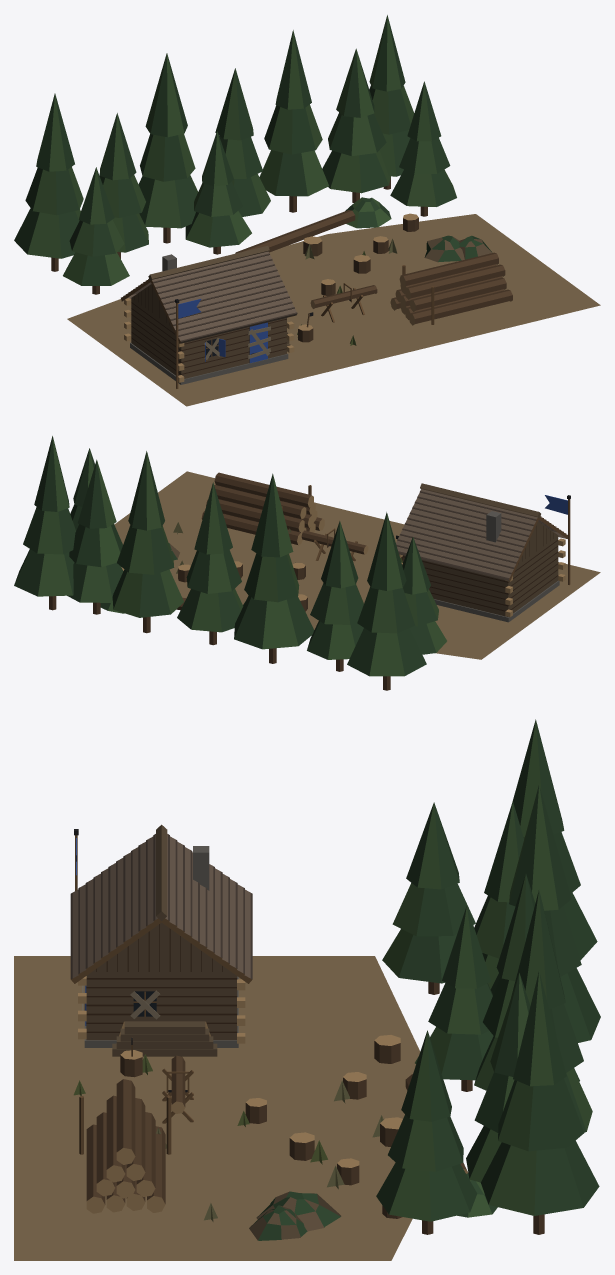
File: holzschlag.glb
3 renders of one model, top to bottom at view 1: azimuth 30°, elevation 25°; view 2: azimuth 150°, elevation 25°; view 3: azimuth 270°, elevation 25°, orthographic. The views are drawn at different scales.
Visible parts, largest first — view 1: Haus, Arbeit, Leerstand, Fahne; view 2: Haus, Arbeit, Fahne; view 3: Haus, Arbeit, Leerstand.
Part boxes in pixels (x1,y1,x2,y2): Haus: (14, 15, 600, 406); Arbeit: (235, 197, 512, 345); Leerstand: (204, 239, 398, 359); Fahne: (175, 299, 201, 388); Haus: (14, 436, 600, 690); Arbeit: (100, 472, 402, 613); Fahne: (545, 495, 570, 584); Haus: (14, 719, 600, 1260); Arbeit: (79, 1021, 497, 1217); Leerstand: (73, 985, 383, 1221).
Size of the model in its own units: 22 by 9.65 by 17.89.
